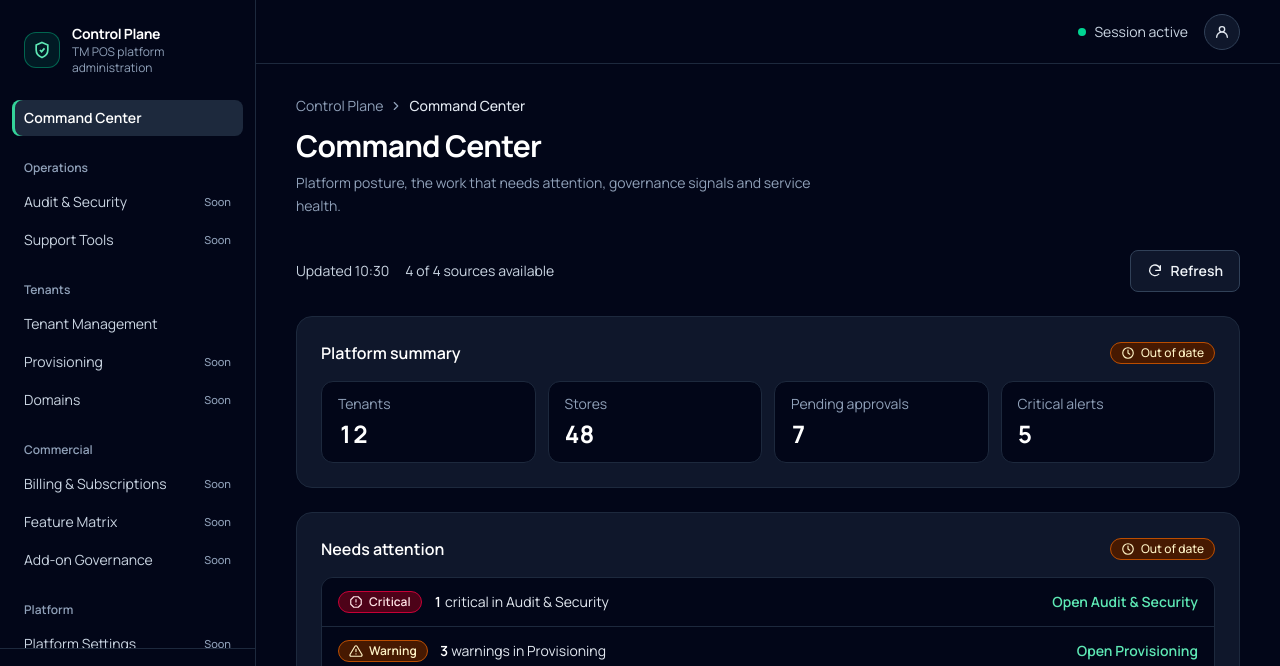
Command Center › ages a kept view from its original arrival when a later refresh fails
The image size is (1280, 666).
Expected: the element "Platform summary" is shown, [296, 316, 1240, 488]
Click the button "Refresh". click: (1185, 270)
box: [1130, 250, 1240, 292]
Wait 120000 ms
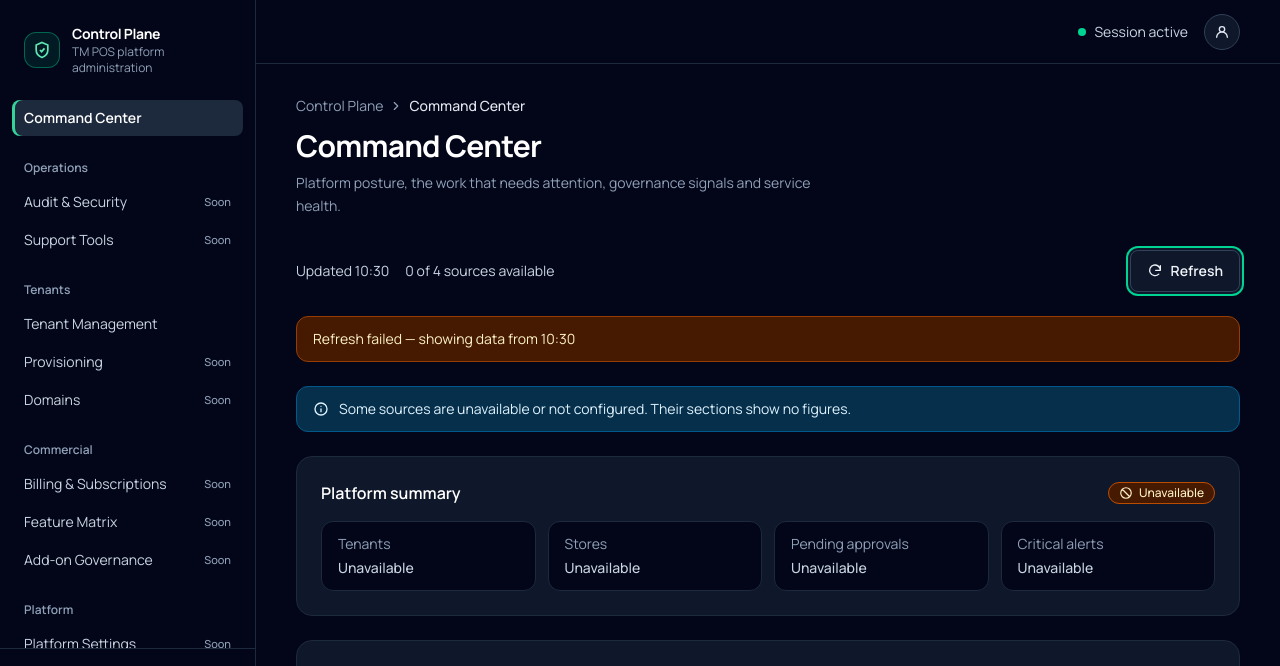
Expected: the text "48" below "Stores" is shown, [564, 558, 640, 576]
Expected: the text "48" is gone
